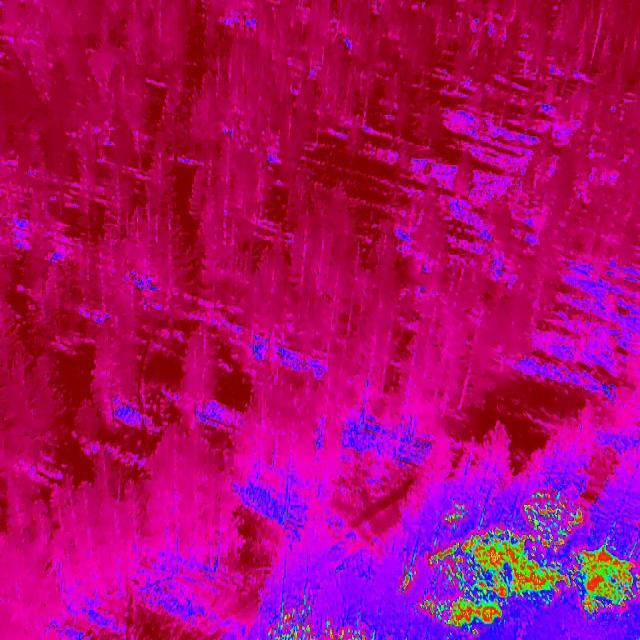fire: (420, 530, 574, 638), (575, 540, 640, 629), (260, 597, 375, 640), (524, 490, 584, 530), (442, 502, 470, 530), (399, 566, 413, 596), (412, 606, 418, 616)
